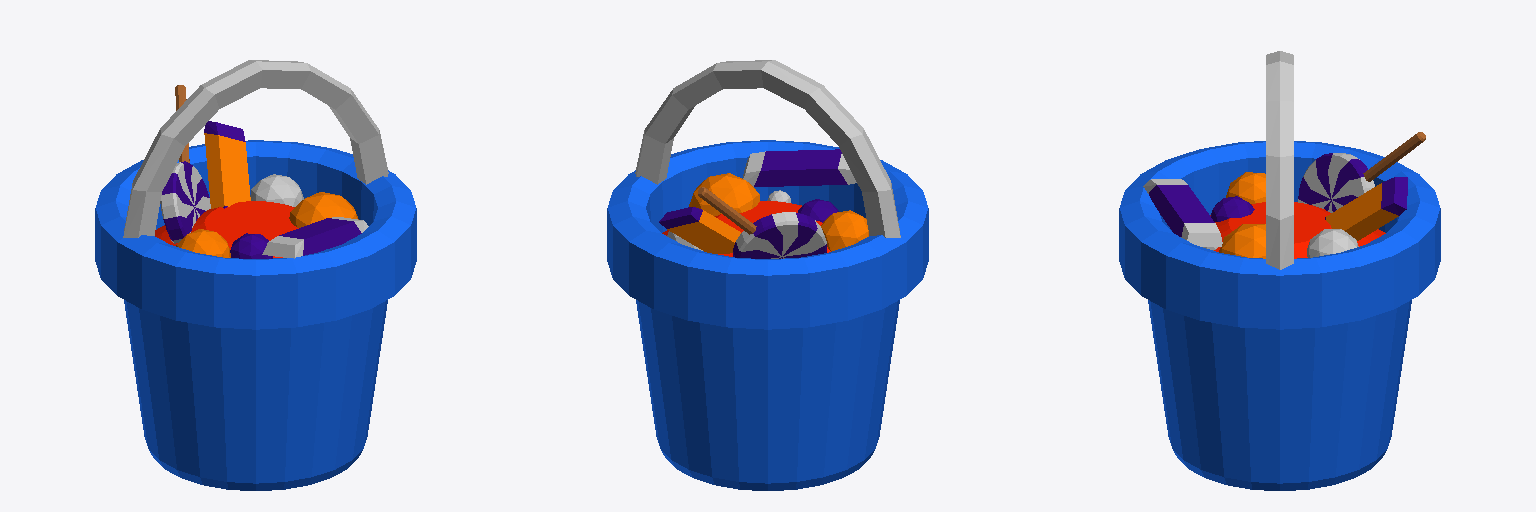
The model's file is candyBucket.obj.
3 views of the same model, side by side, from view 1: azimuth 30°, elevation 25°; view 2: azimuth 150°, elevation 25°; view 3: azimuth 270°, elevation 25° (orthographic).
Parts seen in each view (by area): view 1: candyBucket_Cylinder.013; view 2: candyBucket_Cylinder.013; view 3: candyBucket_Cylinder.013.
Boxes of the visible parts, x1=… form: candyBucket_Cylinder.013: x1=95, y1=60, x2=416, y2=490; candyBucket_Cylinder.013: x1=607, y1=60, x2=928, y2=490; candyBucket_Cylinder.013: x1=1119, y1=51, x2=1440, y2=490.
Size of the model in its own units: 1.08 by 1.44 by 1.08.